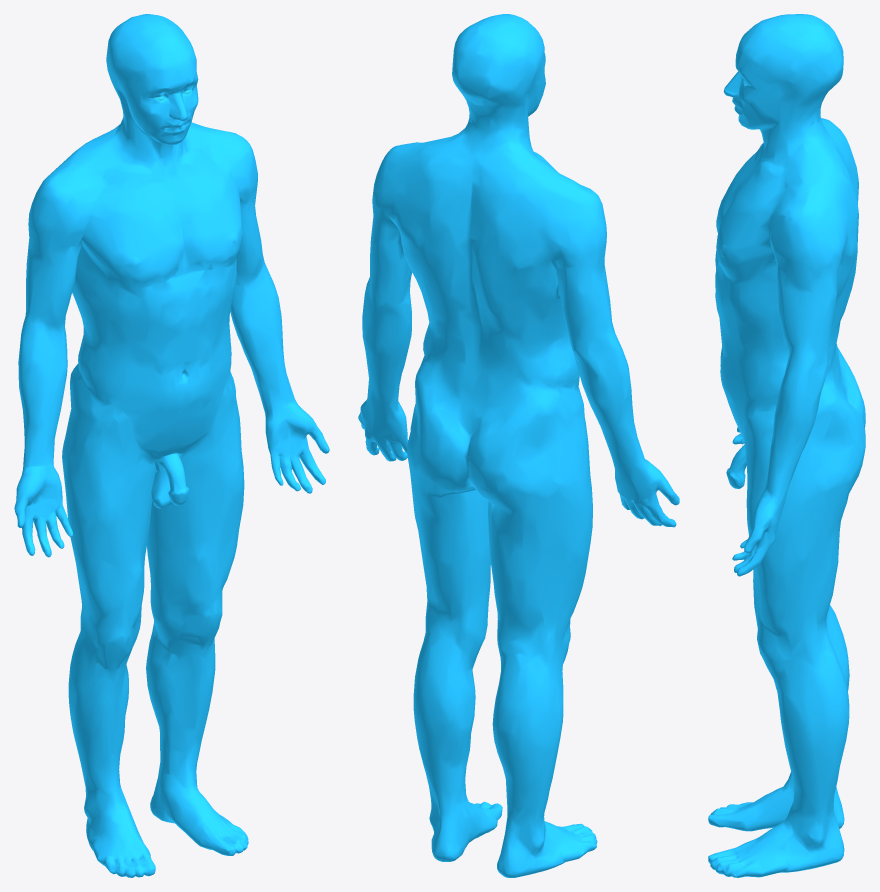
File: praemedica-corpo.glb
3 views of the same model, side by side, from view 1: azimuth 30°, elevation 25°; view 2: azimuth 150°, elevation 25°; view 3: azimuth 270°, elevation 25° (orthographic). The views are drawn at different scales.
Visible parts, largest first — view 1: pelle; view 2: pelle; view 3: pelle.
Boxes of the visible parts, x1,y1,x2,y2 form: pelle: (14,14,329,877); pelle: (358,14,679,877); pelle: (708,14,865,877).
Size of the model in its own units: 0.658 by 1.65 by 0.2853.
